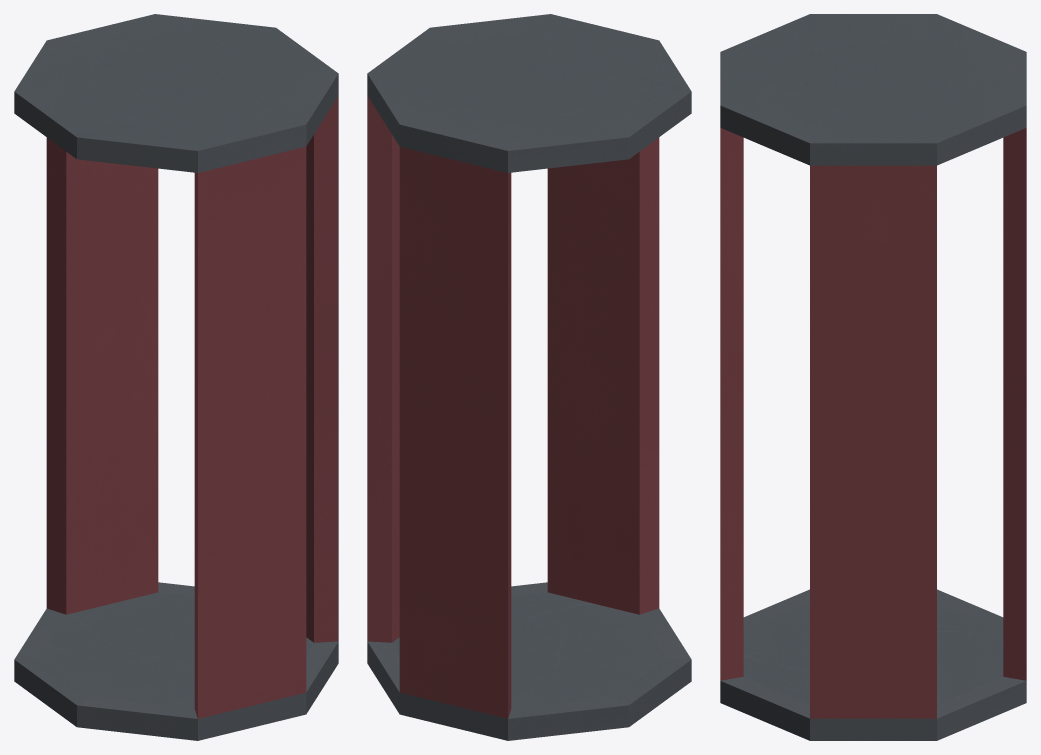
The model's file is Cage.gltf.
3 views of the same model, side by side, from view 1: azimuth 30°, elevation 25°; view 2: azimuth 150°, elevation 25°; view 3: azimuth 270°, elevation 25° (orthographic).
Visible parts, largest first — view 1: Cage; view 2: Cage; view 3: Cage.
Part boxes in pixels (x1,y1,x2,y2): Cage: (14, 14, 338, 740); Cage: (367, 14, 691, 740); Cage: (720, 14, 1026, 740).
Bounding box in the file's own units: 1.47 × 3.16 × 1.47.
1 material, 1 textured.
